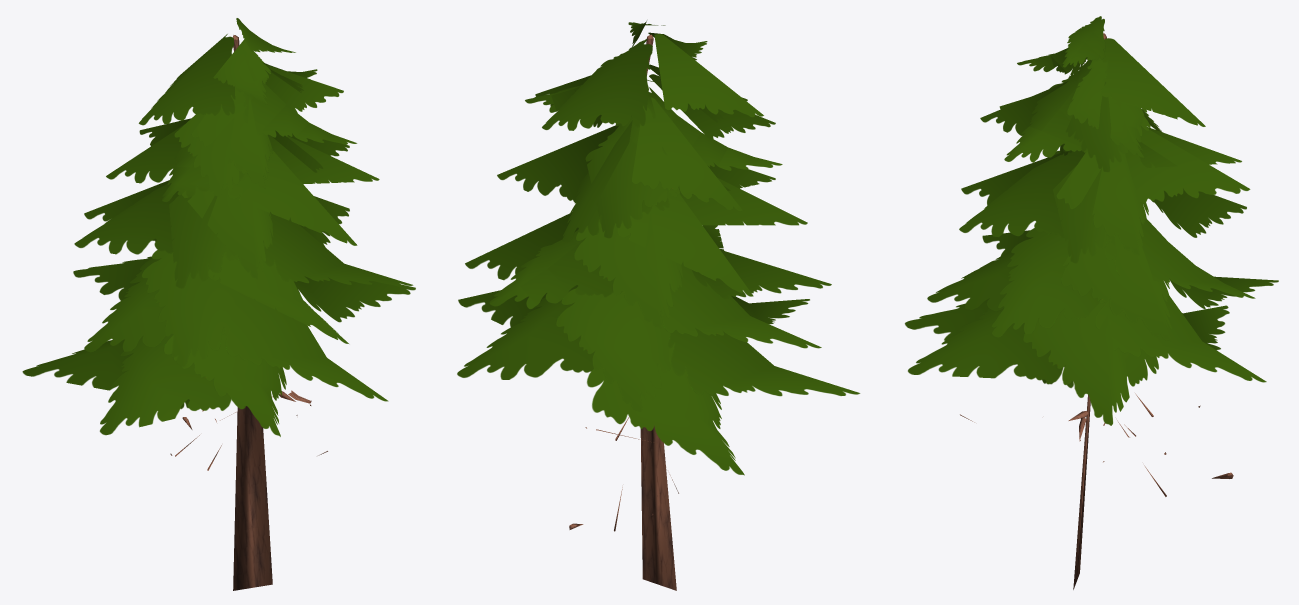
Rendered from spruce-1-far.glb.
3 renders of one model, left to right at view 1: azimuth 30°, elevation 25°; view 2: azimuth 150°, elevation 25°; view 3: azimuth 270°, elevation 25°, orthographic. The views are drawn at different scales.
Parts seen in each view (by area): view 1: Pine_1; view 2: Pine_1; view 3: Pine_1.
Part boxes in pixels (x1,y1,x2,y2): Pine_1: [22, 18, 415, 590]; Pine_1: [457, 21, 860, 590]; Pine_1: [905, 16, 1278, 589].
Bounding box in the file's own units: 4.94 × 7.32 × 4.54.
2 materials, 2 textured.
